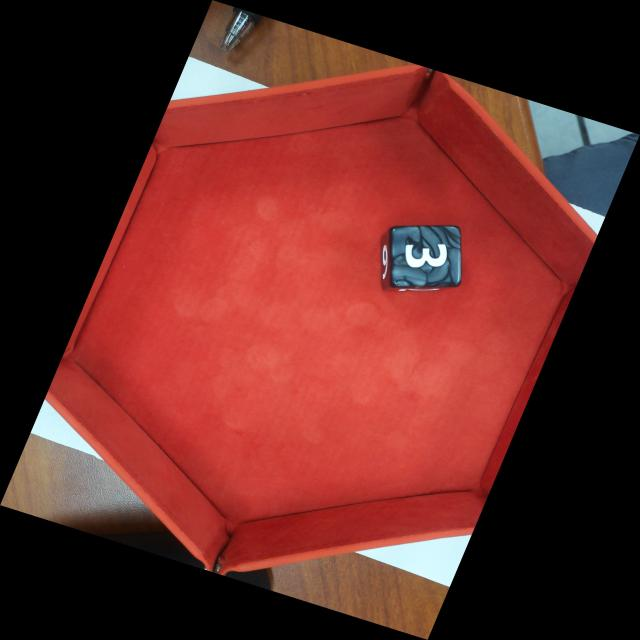dice: (398, 225, 464, 282)
